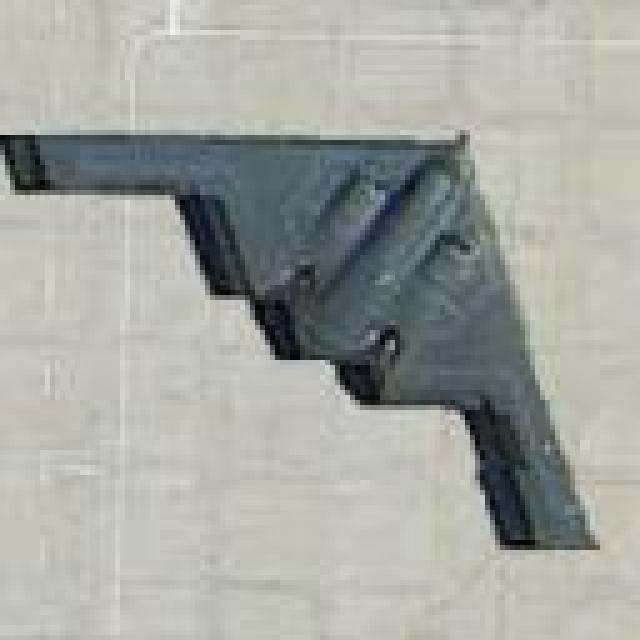B-2_TopDown: (0, 120, 600, 550)
